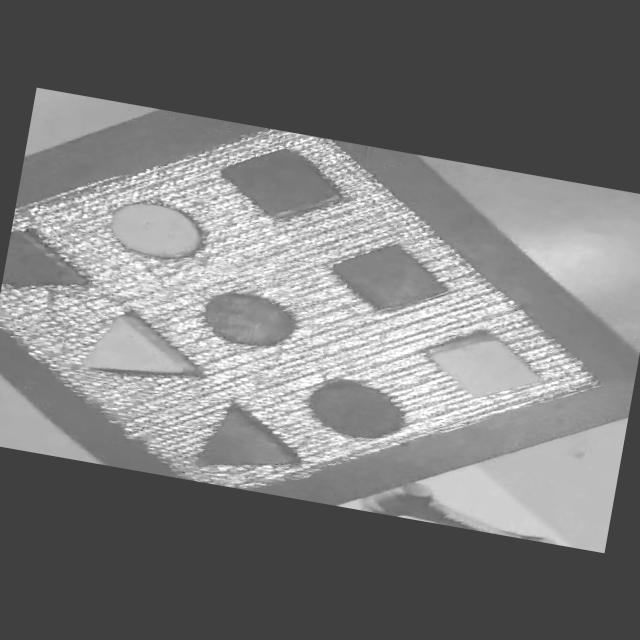bcircle: (279, 366, 421, 448)
bcube: (313, 239, 454, 320)
btriangle: (1, 225, 94, 291)
rcircle: (184, 287, 310, 353)
rcube: (208, 145, 353, 224)
rtriangle: (152, 403, 308, 479)
wb: (0, 129, 597, 486)
ycircle: (82, 188, 218, 268)
ycube: (415, 331, 549, 401)
ytriangle: (47, 310, 210, 401)
